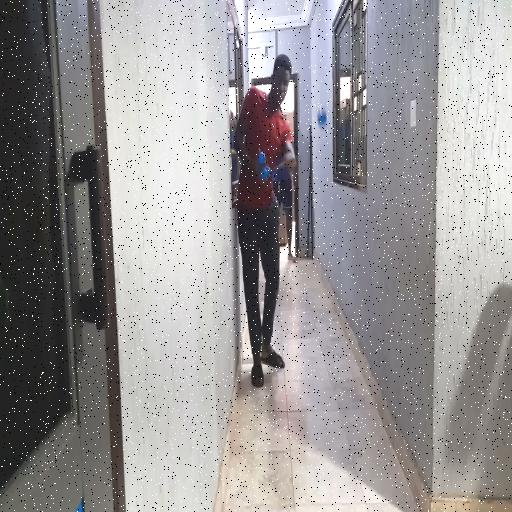plastic-ball: (315, 104, 326, 132)
